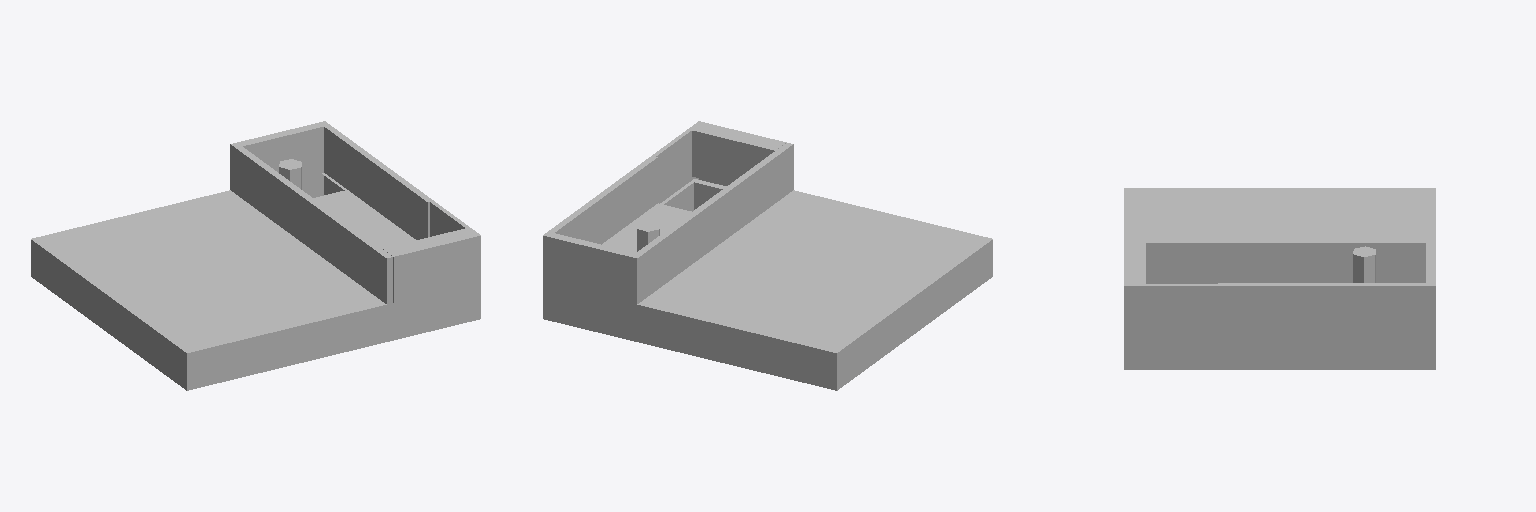
File: cubicles_env.obj
The picture shows the model from 3 angles: view 1: azimuth 30°, elevation 25°; view 2: azimuth 150°, elevation 25°; view 3: azimuth 270°, elevation 25°; orthographic projection.
Visible parts, largest first — view 1: instance_0-12, instance_0-5, instance_0-10, instance_0, instance_0-3, instance_0-2, instance_0-18; view 2: instance_0-12, instance_0-5, instance_0-2, instance_0-10, instance_0, instance_0-3, instance_0-7; view 3: instance_0-5, instance_0-12, instance_0-10, instance_0, instance_0-11.
Boxes of the visible parts, x1,y1,x2,y2 form: instance_0-12: [31, 190, 386, 352]; instance_0-5: [31, 144, 480, 390]; instance_0-10: [243, 127, 427, 239]; instance_0: [231, 121, 480, 257]; instance_0-3: [314, 173, 415, 248]; instance_0-2: [430, 202, 464, 236]; instance_0-18: [302, 175, 344, 197]; instance_0-12: [637, 190, 992, 352]; instance_0-5: [543, 144, 992, 390]; instance_0-2: [656, 131, 774, 200]; instance_0-10: [555, 158, 657, 244]; instance_0: [543, 121, 792, 257]; instance_0-3: [602, 203, 691, 252]; instance_0-7: [664, 182, 722, 211]; instance_0-5: [1124, 286, 1435, 369]; instance_0-12: [1124, 188, 1435, 239]; instance_0-10: [1146, 243, 1425, 283]; instance_0: [1124, 240, 1435, 285]; instance_0-11: [1353, 246, 1375, 282].
Size of the model in its own units: 828 by 225 by 762.